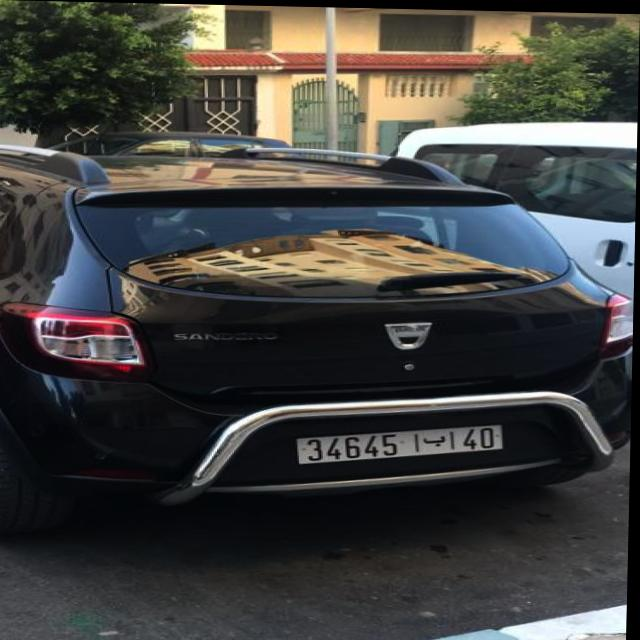License-Plate: (300, 423, 504, 462)
